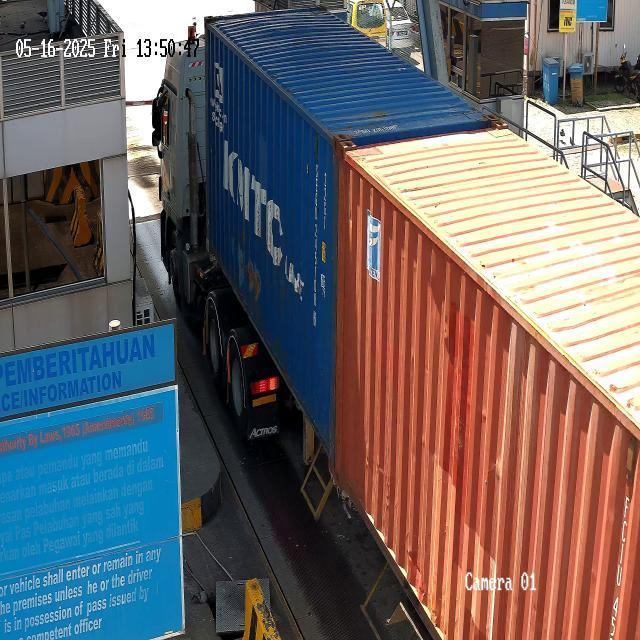ISO: (319, 165, 331, 243)
container_number: (305, 153, 322, 353)
